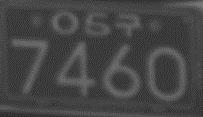0: (146, 45, 188, 102), (50, 10, 80, 35)
4: (55, 40, 95, 96)
5: (83, 10, 110, 36)
6: (101, 43, 141, 100)
7: (11, 37, 49, 93)
구: (114, 11, 141, 37)
